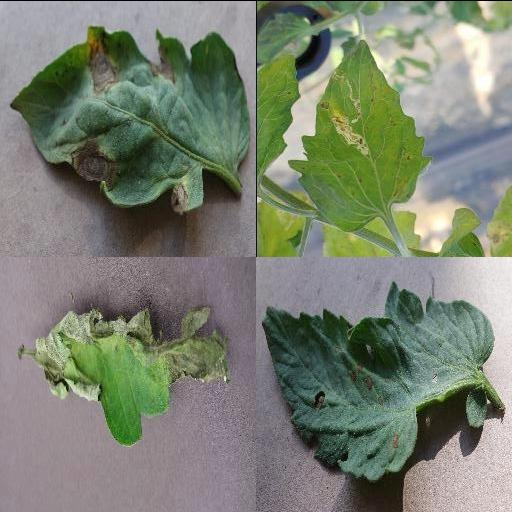Early Blight: (260, 286, 496, 490), (9, 23, 255, 215)
Late Blight: (32, 303, 232, 445)
Leaf Miner: (286, 38, 434, 232)
